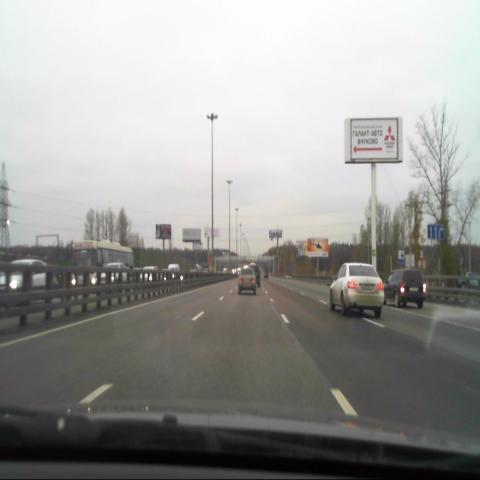5_15_1: (428, 223, 444, 239)
